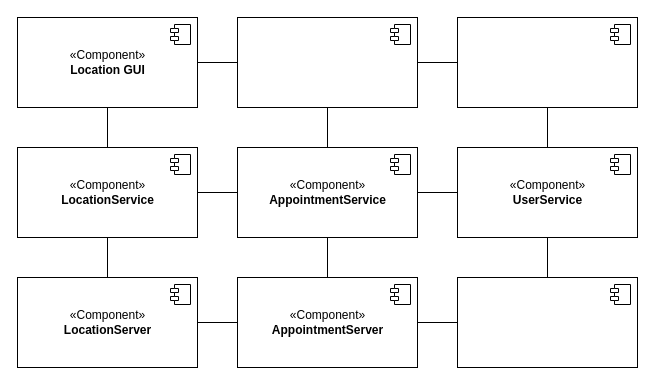
This 655x385 diagram has some shape labels left out. Each missing label, with the centre of its shape:
«Component» AppointmentGui: the point at 327,62
«Component» UserGui: the point at 547,62
«Component» UserServer: the point at 547,322
